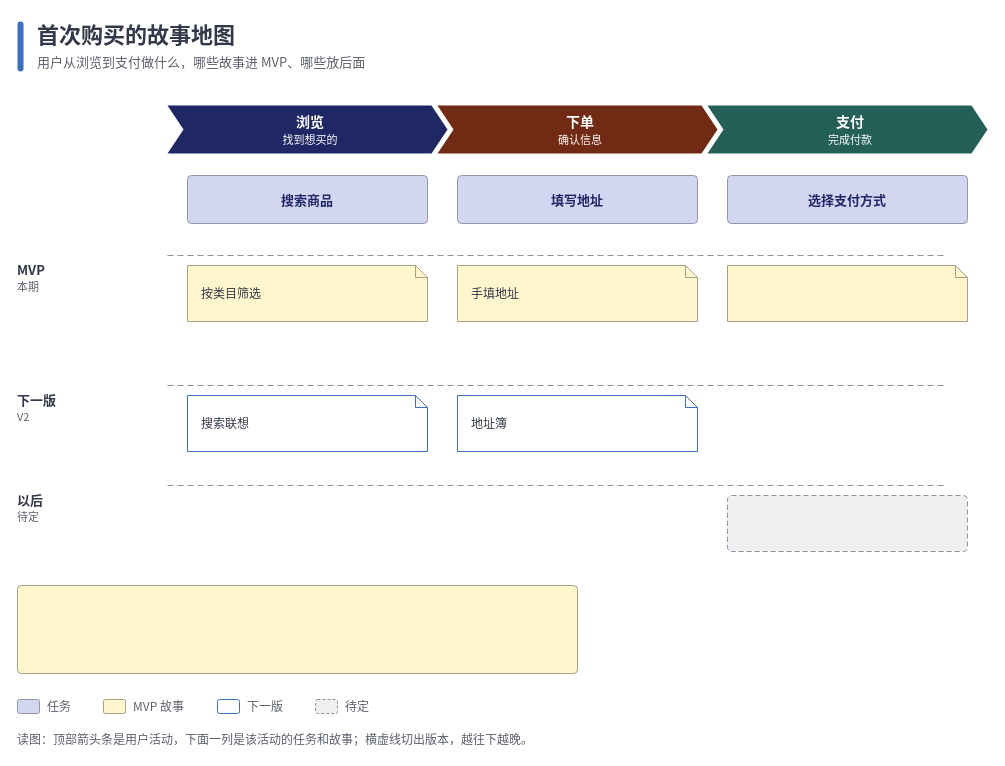
Some shapes in this 1005 by 766 pixel diagram are drawn without their labels. The box of each missing label's shape, as (x1, y1, x2, y2) in pixels:
分期付款: (726, 494, 968, 552)
切版本的依据 MVP 只保证一条能跑通的购买路径 分期付款依赖外部额度服务，待定: (16, 584, 578, 674)
微信 / 支付宝: (726, 264, 968, 322)
